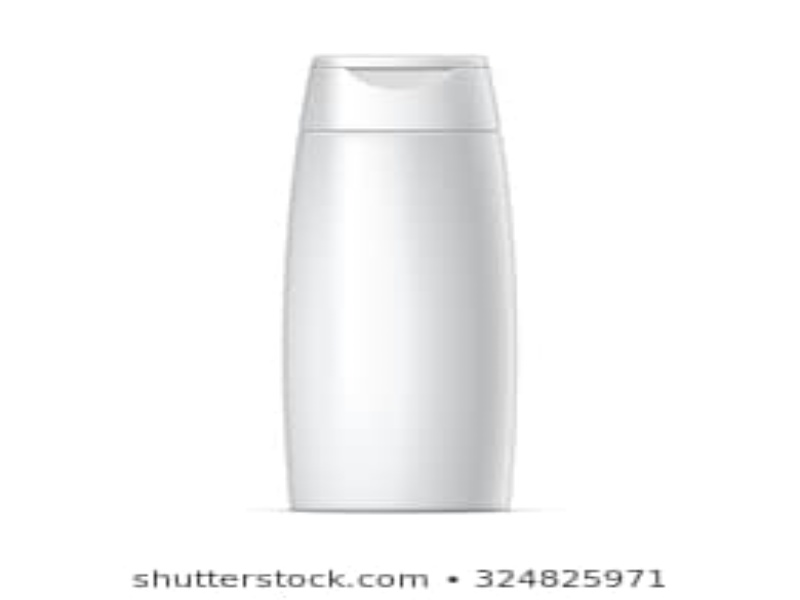shampoo-bottle: (274, 43, 531, 525)
